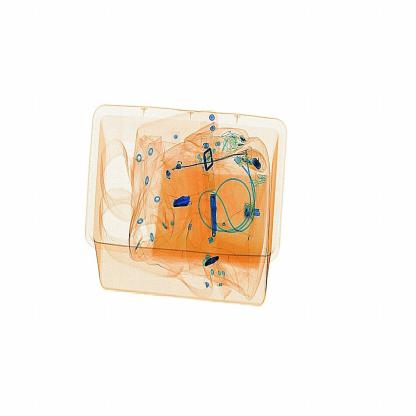knife: (171, 192, 195, 208)
